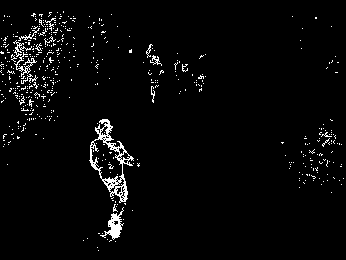person: (80, 117, 143, 241)
